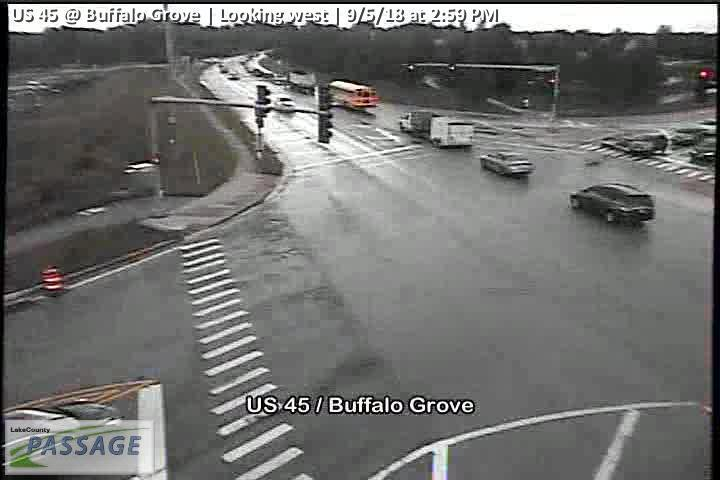SUV: (4, 397, 127, 480), (630, 130, 669, 156), (275, 94, 297, 114), (226, 71, 241, 80)
Sedan: (671, 125, 702, 147), (689, 140, 718, 163), (701, 117, 718, 134)
Truck: (566, 182, 656, 226), (323, 77, 379, 112), (478, 150, 537, 179), (428, 115, 474, 152), (287, 67, 319, 96), (399, 110, 431, 133)
